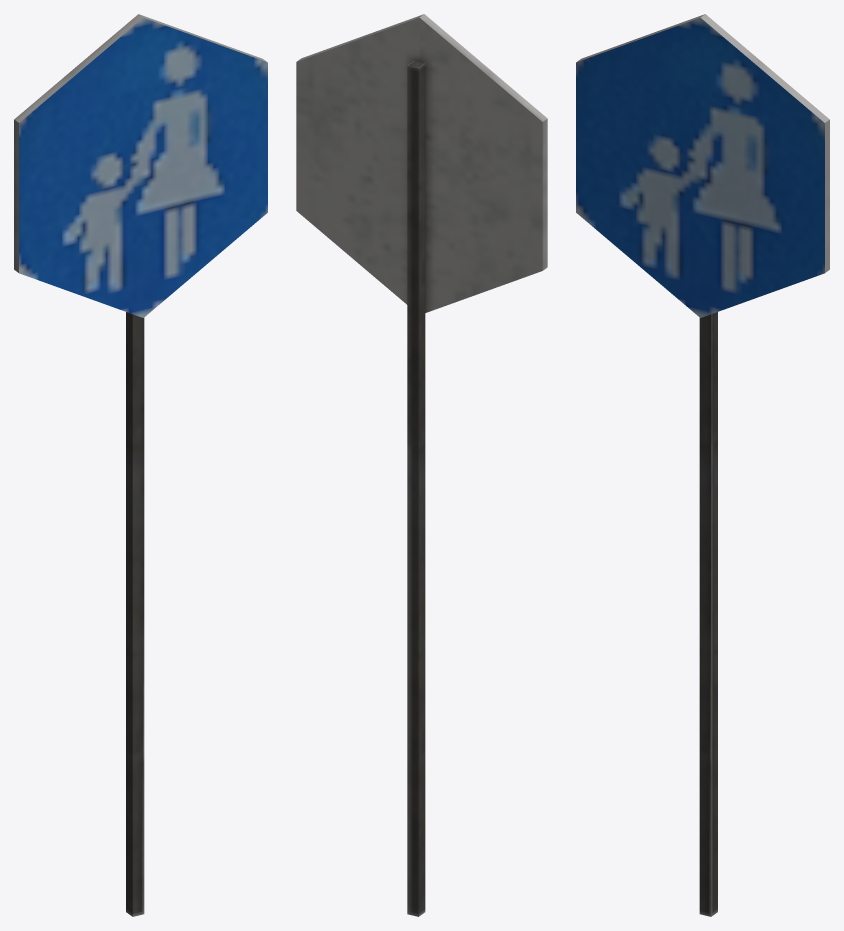
The model's file is Sign08.obj.
3 renders of one model, left to right at view 1: azimuth 30°, elevation 25°; view 2: azimuth 150°, elevation 25°; view 3: azimuth 330°, elevation 25°, orthographic.
Parts seen in each view (by area): view 1: Sign08; view 2: Sign08; view 3: Sign08.
Boxes of the visible parts, x1,y1,x2,y2 form: Sign08: (14,14,267,916); Sign08: (296,14,547,916); Sign08: (576,14,829,916).
Size of the model in its own units: 0.866 by 3 by 0.07.
